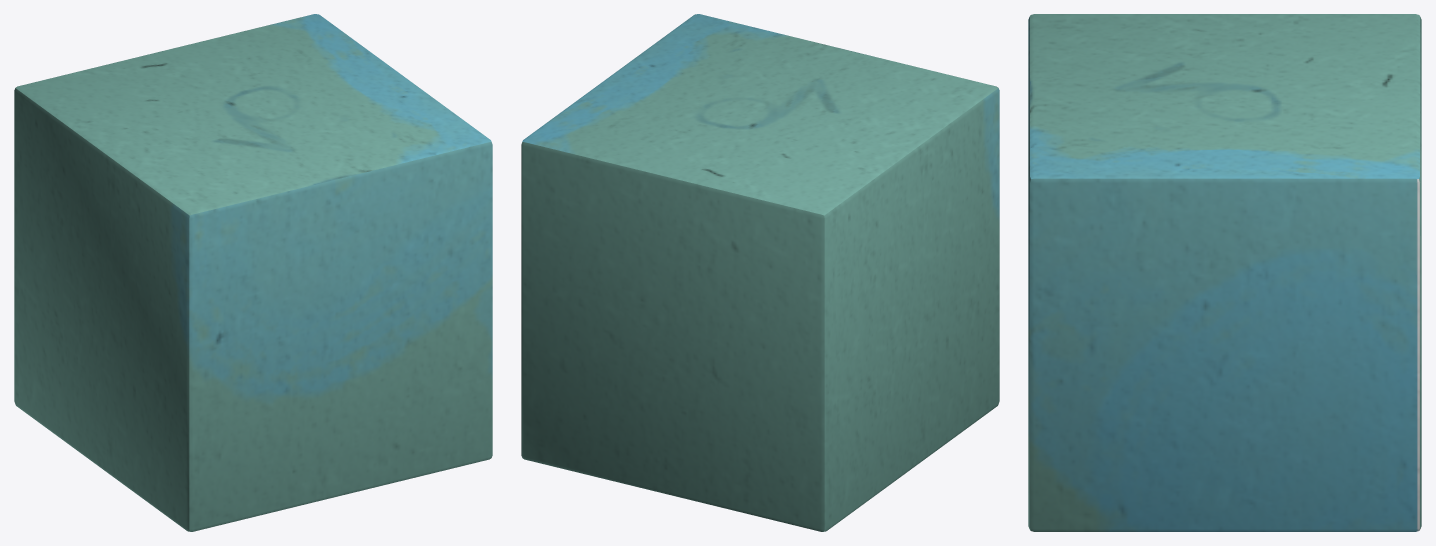
Rendered from TOMB_GROUND_1_004.obj.
3 views of the same model, side by side, from view 1: azimuth 30°, elevation 25°; view 2: azimuth 150°, elevation 25°; view 3: azimuth 270°, elevation 25° (orthographic). The views are drawn at different scales.
Visible parts, largest first — view 1: TOMB_GROUND_1_004; view 2: TOMB_GROUND_1_004; view 3: TOMB_GROUND_1_004.
Boxes of the visible parts, bbox=[...] form: TOMB_GROUND_1_004: bbox=[14, 14, 492, 531]; TOMB_GROUND_1_004: bbox=[521, 14, 999, 531]; TOMB_GROUND_1_004: bbox=[1028, 14, 1421, 531].
Bounding box in the file's own units: 1 × 1 × 1.
2 materials, 2 textured.
